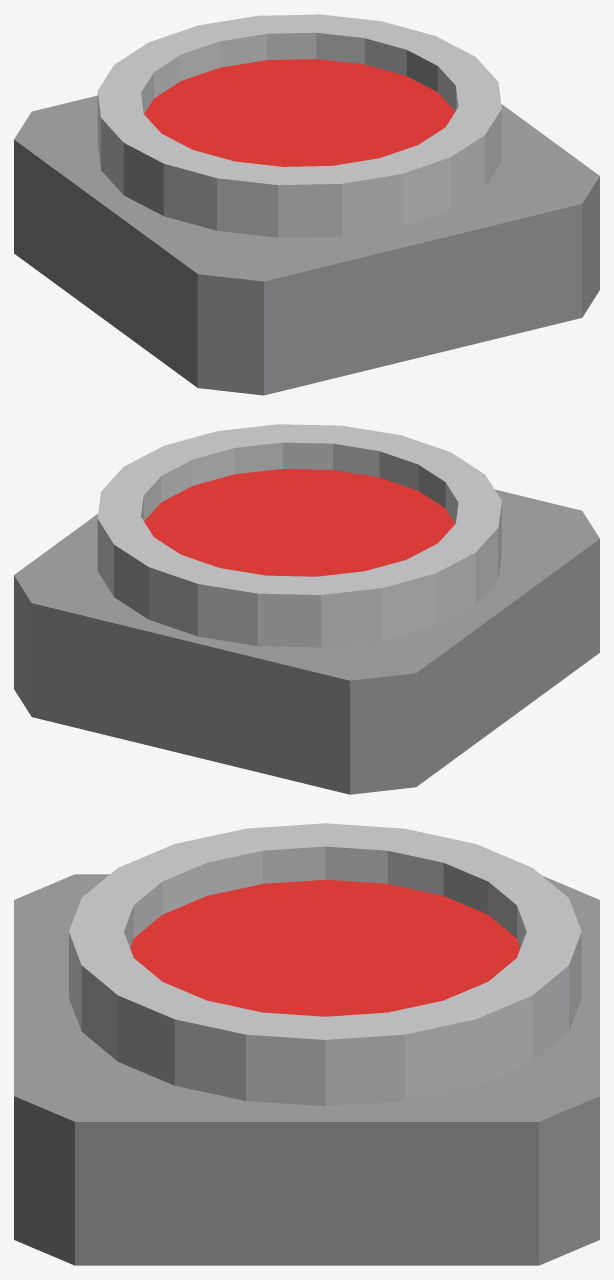
Rendered from vge_e_gravjumper_engine.obj.
The picture shows the model from 3 angles, top to bottom: view 1: azimuth 30°, elevation 25°; view 2: azimuth 150°, elevation 25°; view 3: azimuth 270°, elevation 25°; orthographic projection. The views are drawn at different scales.
Parts seen in each view (by area): view 1: vge_gravjumper_engine_0, vge_gravjumper_engine_1, vge_gravjumper_engine_2; view 2: vge_gravjumper_engine_0, vge_gravjumper_engine_1, vge_gravjumper_engine_2; view 3: vge_gravjumper_engine_0, vge_gravjumper_engine_1, vge_gravjumper_engine_2.
Part boxes in pixels (x1,y1,x2,y2): vge_gravjumper_engine_0: (14, 95, 599, 395); vge_gravjumper_engine_1: (97, 14, 501, 237); vge_gravjumper_engine_2: (144, 59, 455, 166); vge_gravjumper_engine_0: (14, 489, 599, 794); vge_gravjumper_engine_1: (97, 424, 501, 647); vge_gravjumper_engine_2: (144, 469, 454, 576); vge_gravjumper_engine_0: (14, 874, 599, 1265); vge_gravjumper_engine_1: (69, 823, 581, 1106); vge_gravjumper_engine_2: (130, 879, 520, 1016).
Size of the model in its own units: 0.96 by 0.38 by 0.96.
